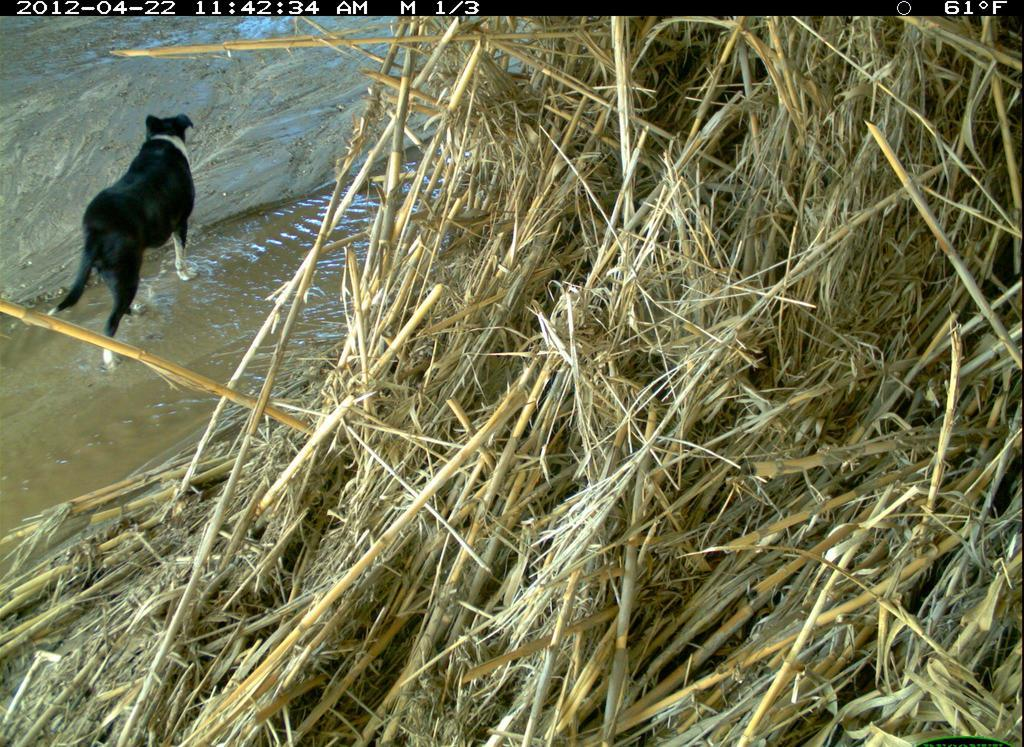dog: (38, 104, 201, 386)
